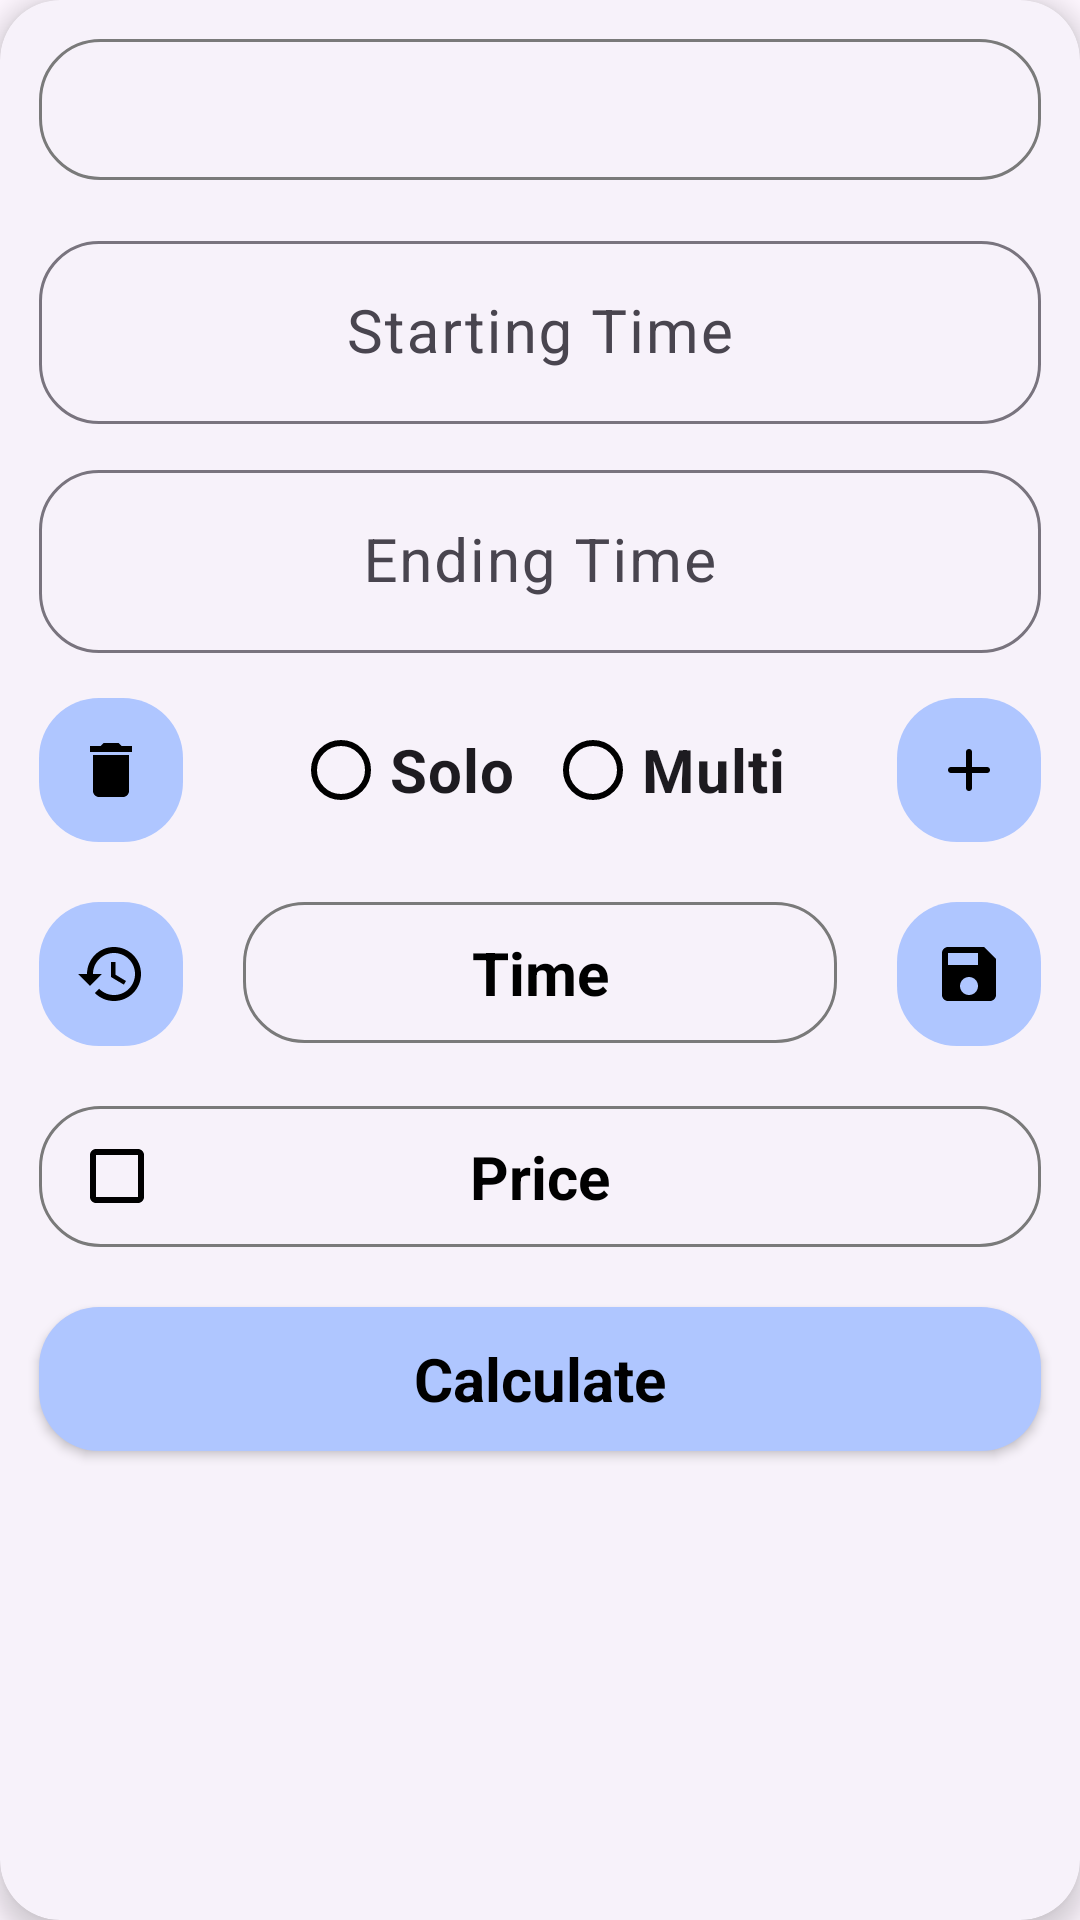

Where icons sit on this 1080px×1920px app screen, as (x1, y1, x2, y2):
delete: (39, 698, 183, 842)
history: (39, 902, 183, 1046)
plus: (897, 698, 1041, 842)
save: (897, 902, 1041, 1046)
